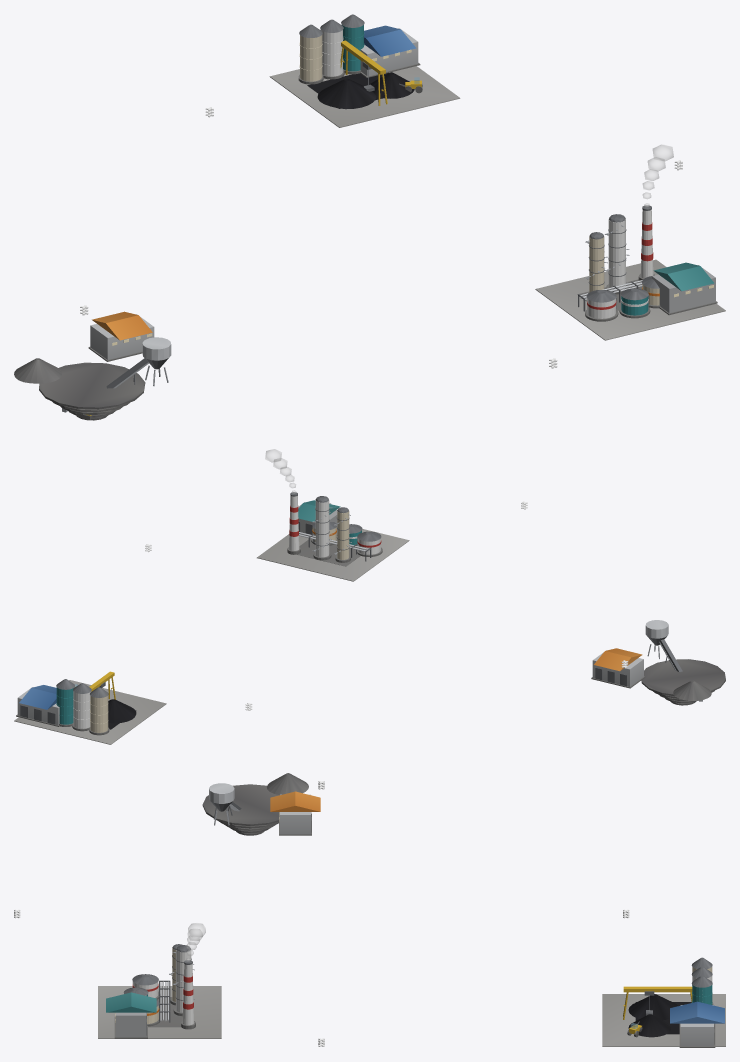
The model's file is Sites_P3.fbx.
3 renders of one model, top to bottom at view 1: azimuth 30°, elevation 25°; view 2: azimuth 150°, elevation 25°; view 3: azimuth 270°, elevation 25°, orthographic. The views are drawn at different scales.
Parts seen in each view (by area): view 1: Site.Store.Yard, Site.Quarry.Benches, Site.Plant.Pad, Site.Plant.Hall, Site.Quarry.Shed, Site.Store.Shed, Site.Plant.Col1, Site.Store.Silo0, Site.Store.Pile0, Site.Store.Silo1, Site.Plant.Col0, Site.Store.Silo2 (+8 smaller); view 2: Site.Plant.Pad, Site.Quarry.Benches, Site.Store.Yard, Site.Quarry.Shed, Site.Store.Shed, Site.Plant.Col1, Site.Store.Silo0, Site.Store.Silo1, Site.Store.Silo2, Site.Plant.Col0, Site.Plant.Hall, Site.Plant.Stack (+5 smaller); view 3: Site.Plant.Pad, Site.Store.Yard, Site.Quarry.Benches, Site.Store.Shed, Site.Plant.Hall, Site.Quarry.Shed, Site.Store.Pile0, Site.Plant.Stack, Site.Plant.Col1, Site.Quarry.Hopper, Site.Store.Gantry, Site.Quarry.Heap (+4 smaller).
Boxes of the visible parts, box(x1,y1,x2,y2) form: Site.Store.Yard: box(269, 66, 460, 127); Site.Quarry.Benches: box(39, 362, 145, 420); Site.Plant.Pad: box(535, 259, 725, 340); Site.Plant.Hall: box(652, 262, 717, 315); Site.Quarry.Shed: box(88, 311, 154, 361); Site.Store.Shed: box(360, 25, 420, 77); Site.Plant.Col1: box(604, 214, 629, 294); Site.Store.Silo0: box(298, 24, 323, 84); Site.Store.Pile0: box(317, 78, 375, 109); Site.Store.Silo1: box(320, 19, 344, 79); Site.Plant.Col0: box(585, 232, 607, 292); Site.Store.Silo2: box(341, 14, 364, 74); Site.Plant.Pad: box(257, 529, 409, 581); Site.Quarry.Benches: box(641, 659, 725, 705); Site.Store.Yard: box(14, 680, 166, 744); Site.Quarry.Shed: box(591, 648, 645, 688); Site.Store.Shed: box(16, 685, 59, 726); Site.Plant.Col1: box(312, 496, 332, 560); Site.Store.Silo0: box(89, 687, 109, 735); Site.Store.Silo1: box(72, 683, 91, 731); Site.Store.Silo2: box(56, 679, 74, 726); Site.Plant.Col0: box(334, 507, 352, 562); Site.Plant.Hall: box(298, 500, 340, 536); Site.Plant.Stack: box(287, 492, 300, 554); Site.Plant.Pad: box(98, 986, 221, 1038); Site.Store.Yard: box(602, 994, 725, 1046); Site.Quarry.Benches: box(202, 784, 279, 835); Site.Store.Shed: box(670, 1001, 724, 1047); Site.Plant.Hall: box(106, 992, 156, 1038); Site.Quarry.Shed: box(270, 791, 320, 835); Site.Store.Pile0: box(628, 994, 678, 1020); Site.Plant.Stack: box(181, 960, 195, 1029); Site.Plant.Col1: box(172, 945, 194, 1016); Site.Quarry.Hopper: box(209, 783, 234, 825); Site.Store.Gantry: box(623, 986, 692, 1019); Site.Quarry.Heap: box(267, 773, 308, 795).
Bounding box in the file's own units: 29448 × 6532 × 29934.
